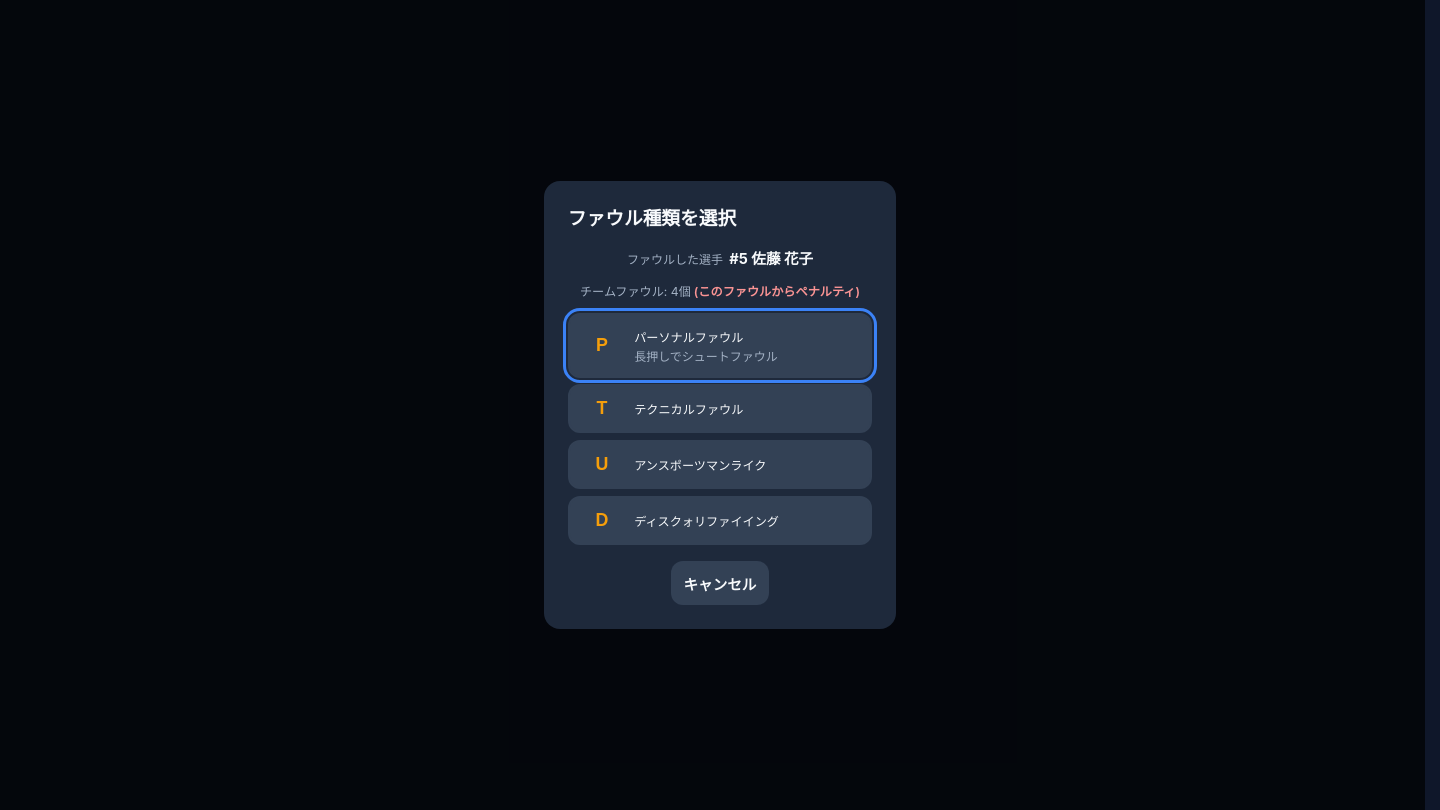
Test: 中断ブロック: チーム選択 › タイムアウトを押すと同じ行がチーム選択に入れ替わる
Press Enter in the button "P パーソナルファウル 長押しでシュートファウル", box [568,314,872,378]
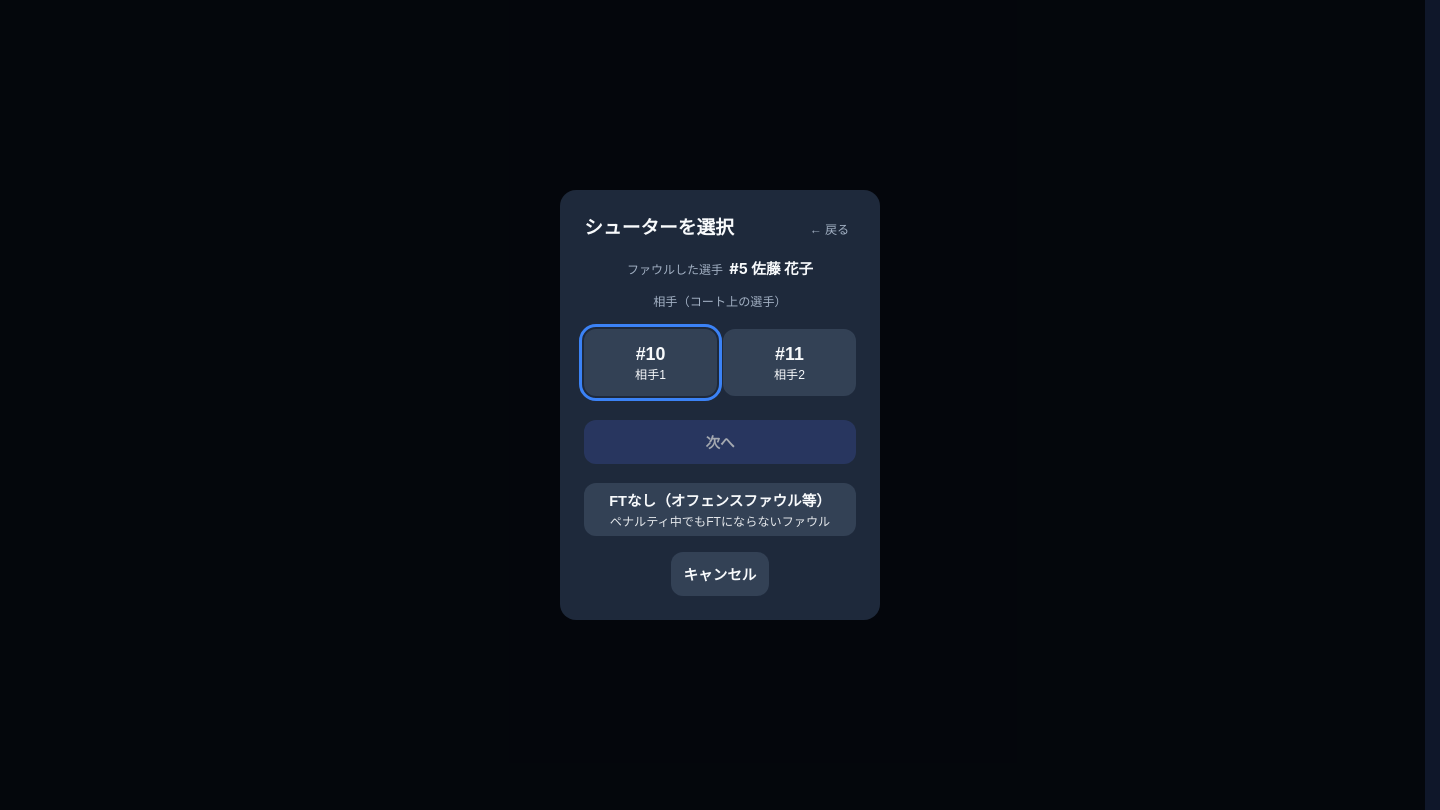
Click the button "#10 相手1". click: (651, 363)
box: [584,329,717,396]
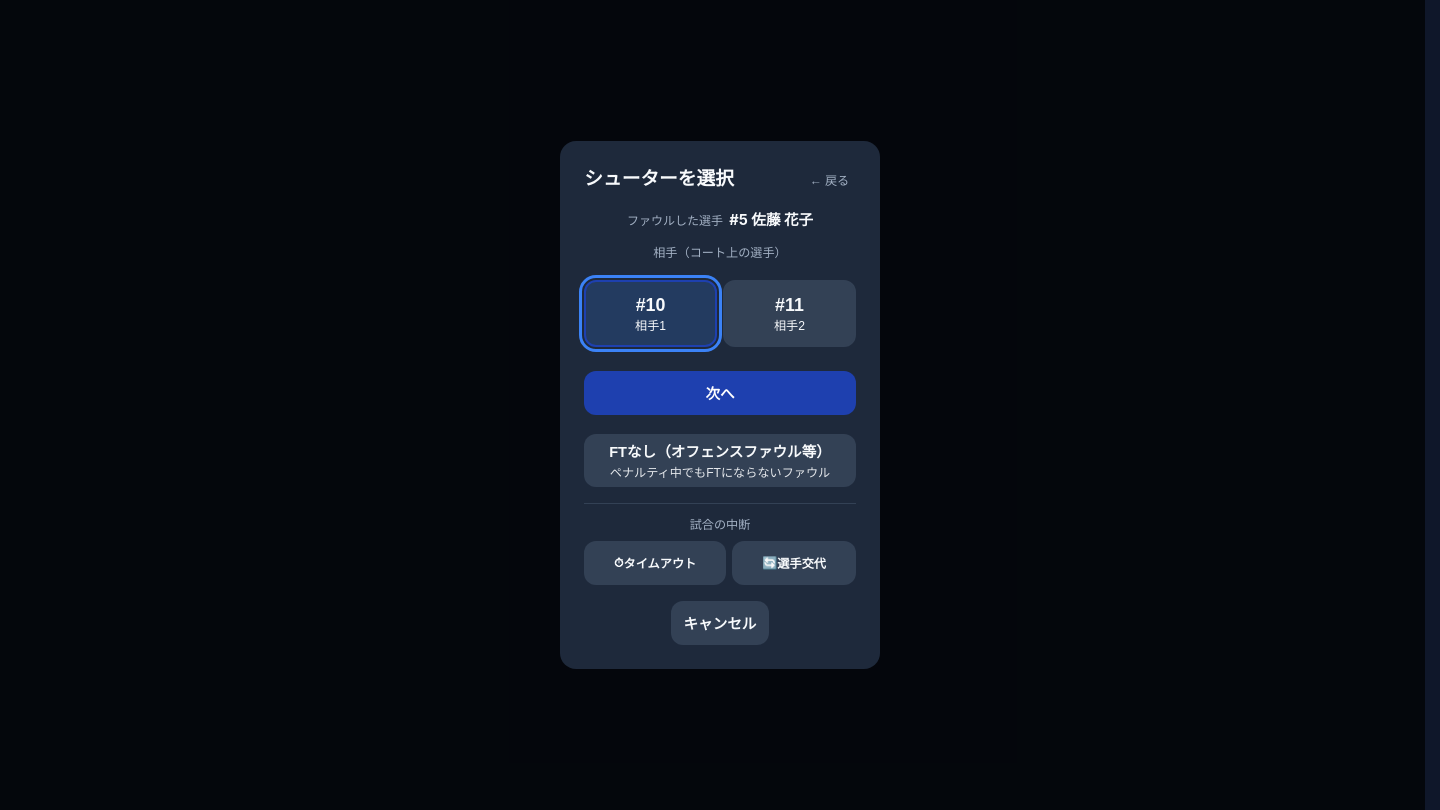
Click the button "次へ". click: (720, 393)
box: [584,371,856,415]
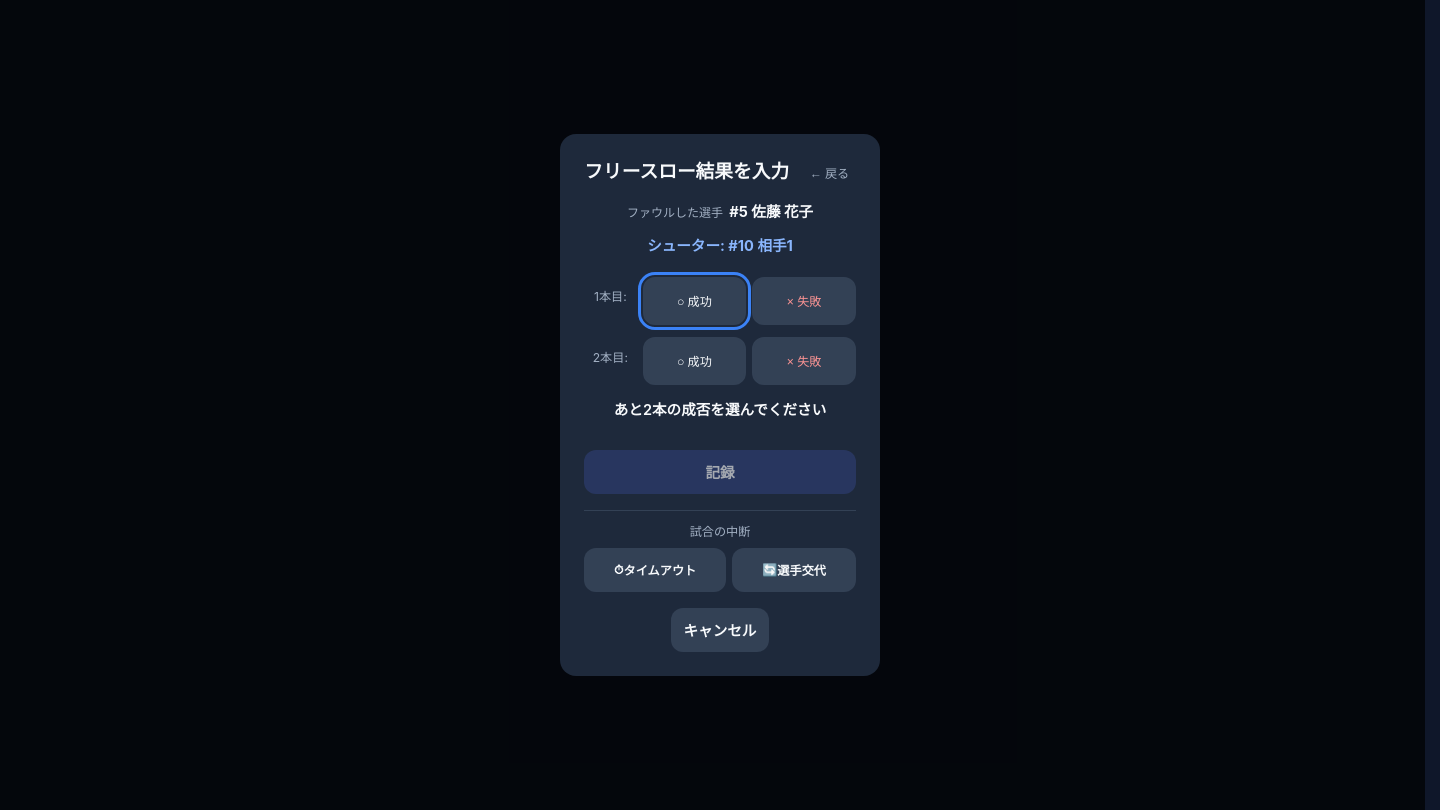
Click the button "⏱ タイムアウト". click: (655, 570)
box: [584,548,726,592]
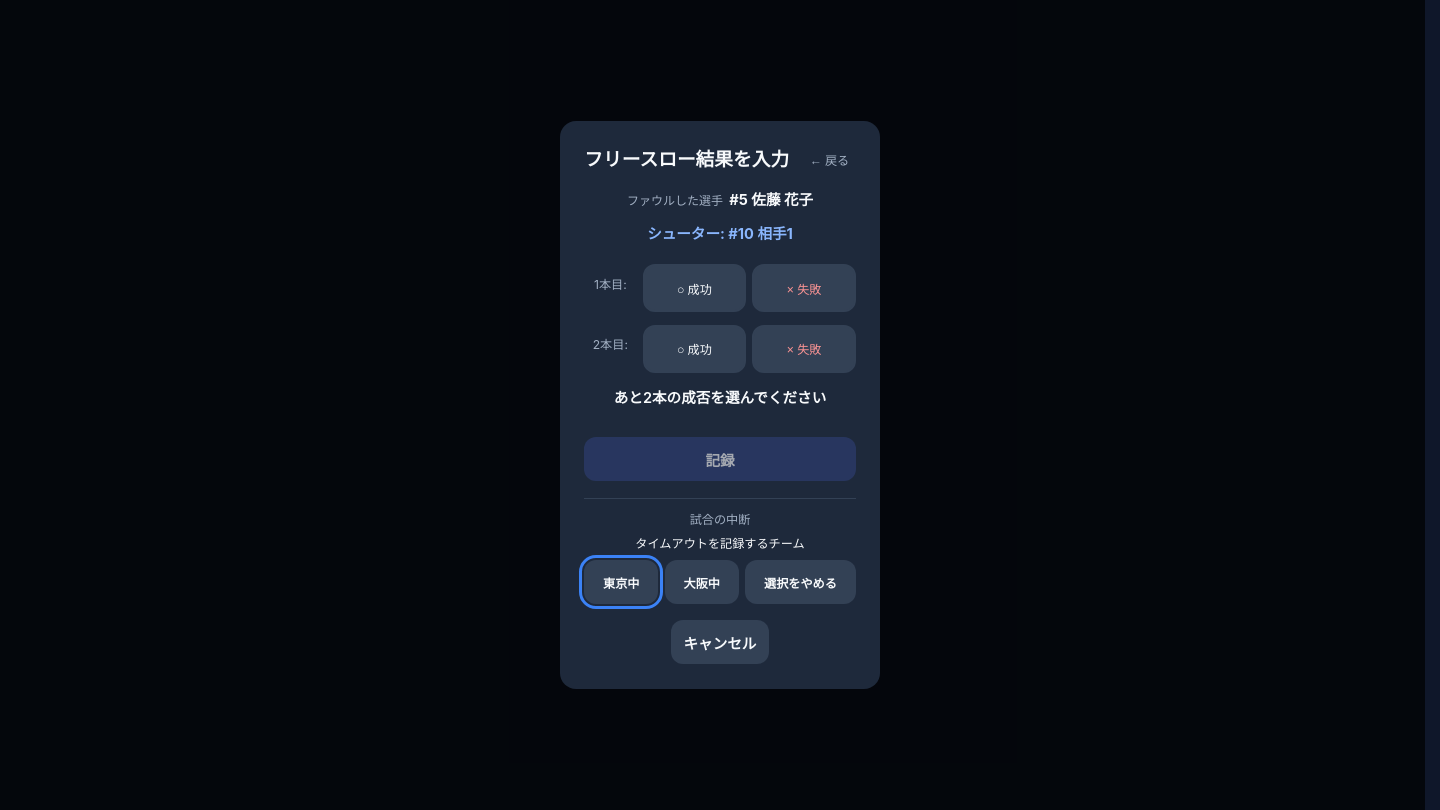
Check: the text "タイムアウトを記録するチーム" is shown, box [635,536,805,551]
Check: the button "東京中" is shown, box [584,560,658,604]
Check: the button "大阪中" is shown, box [665,560,739,604]
